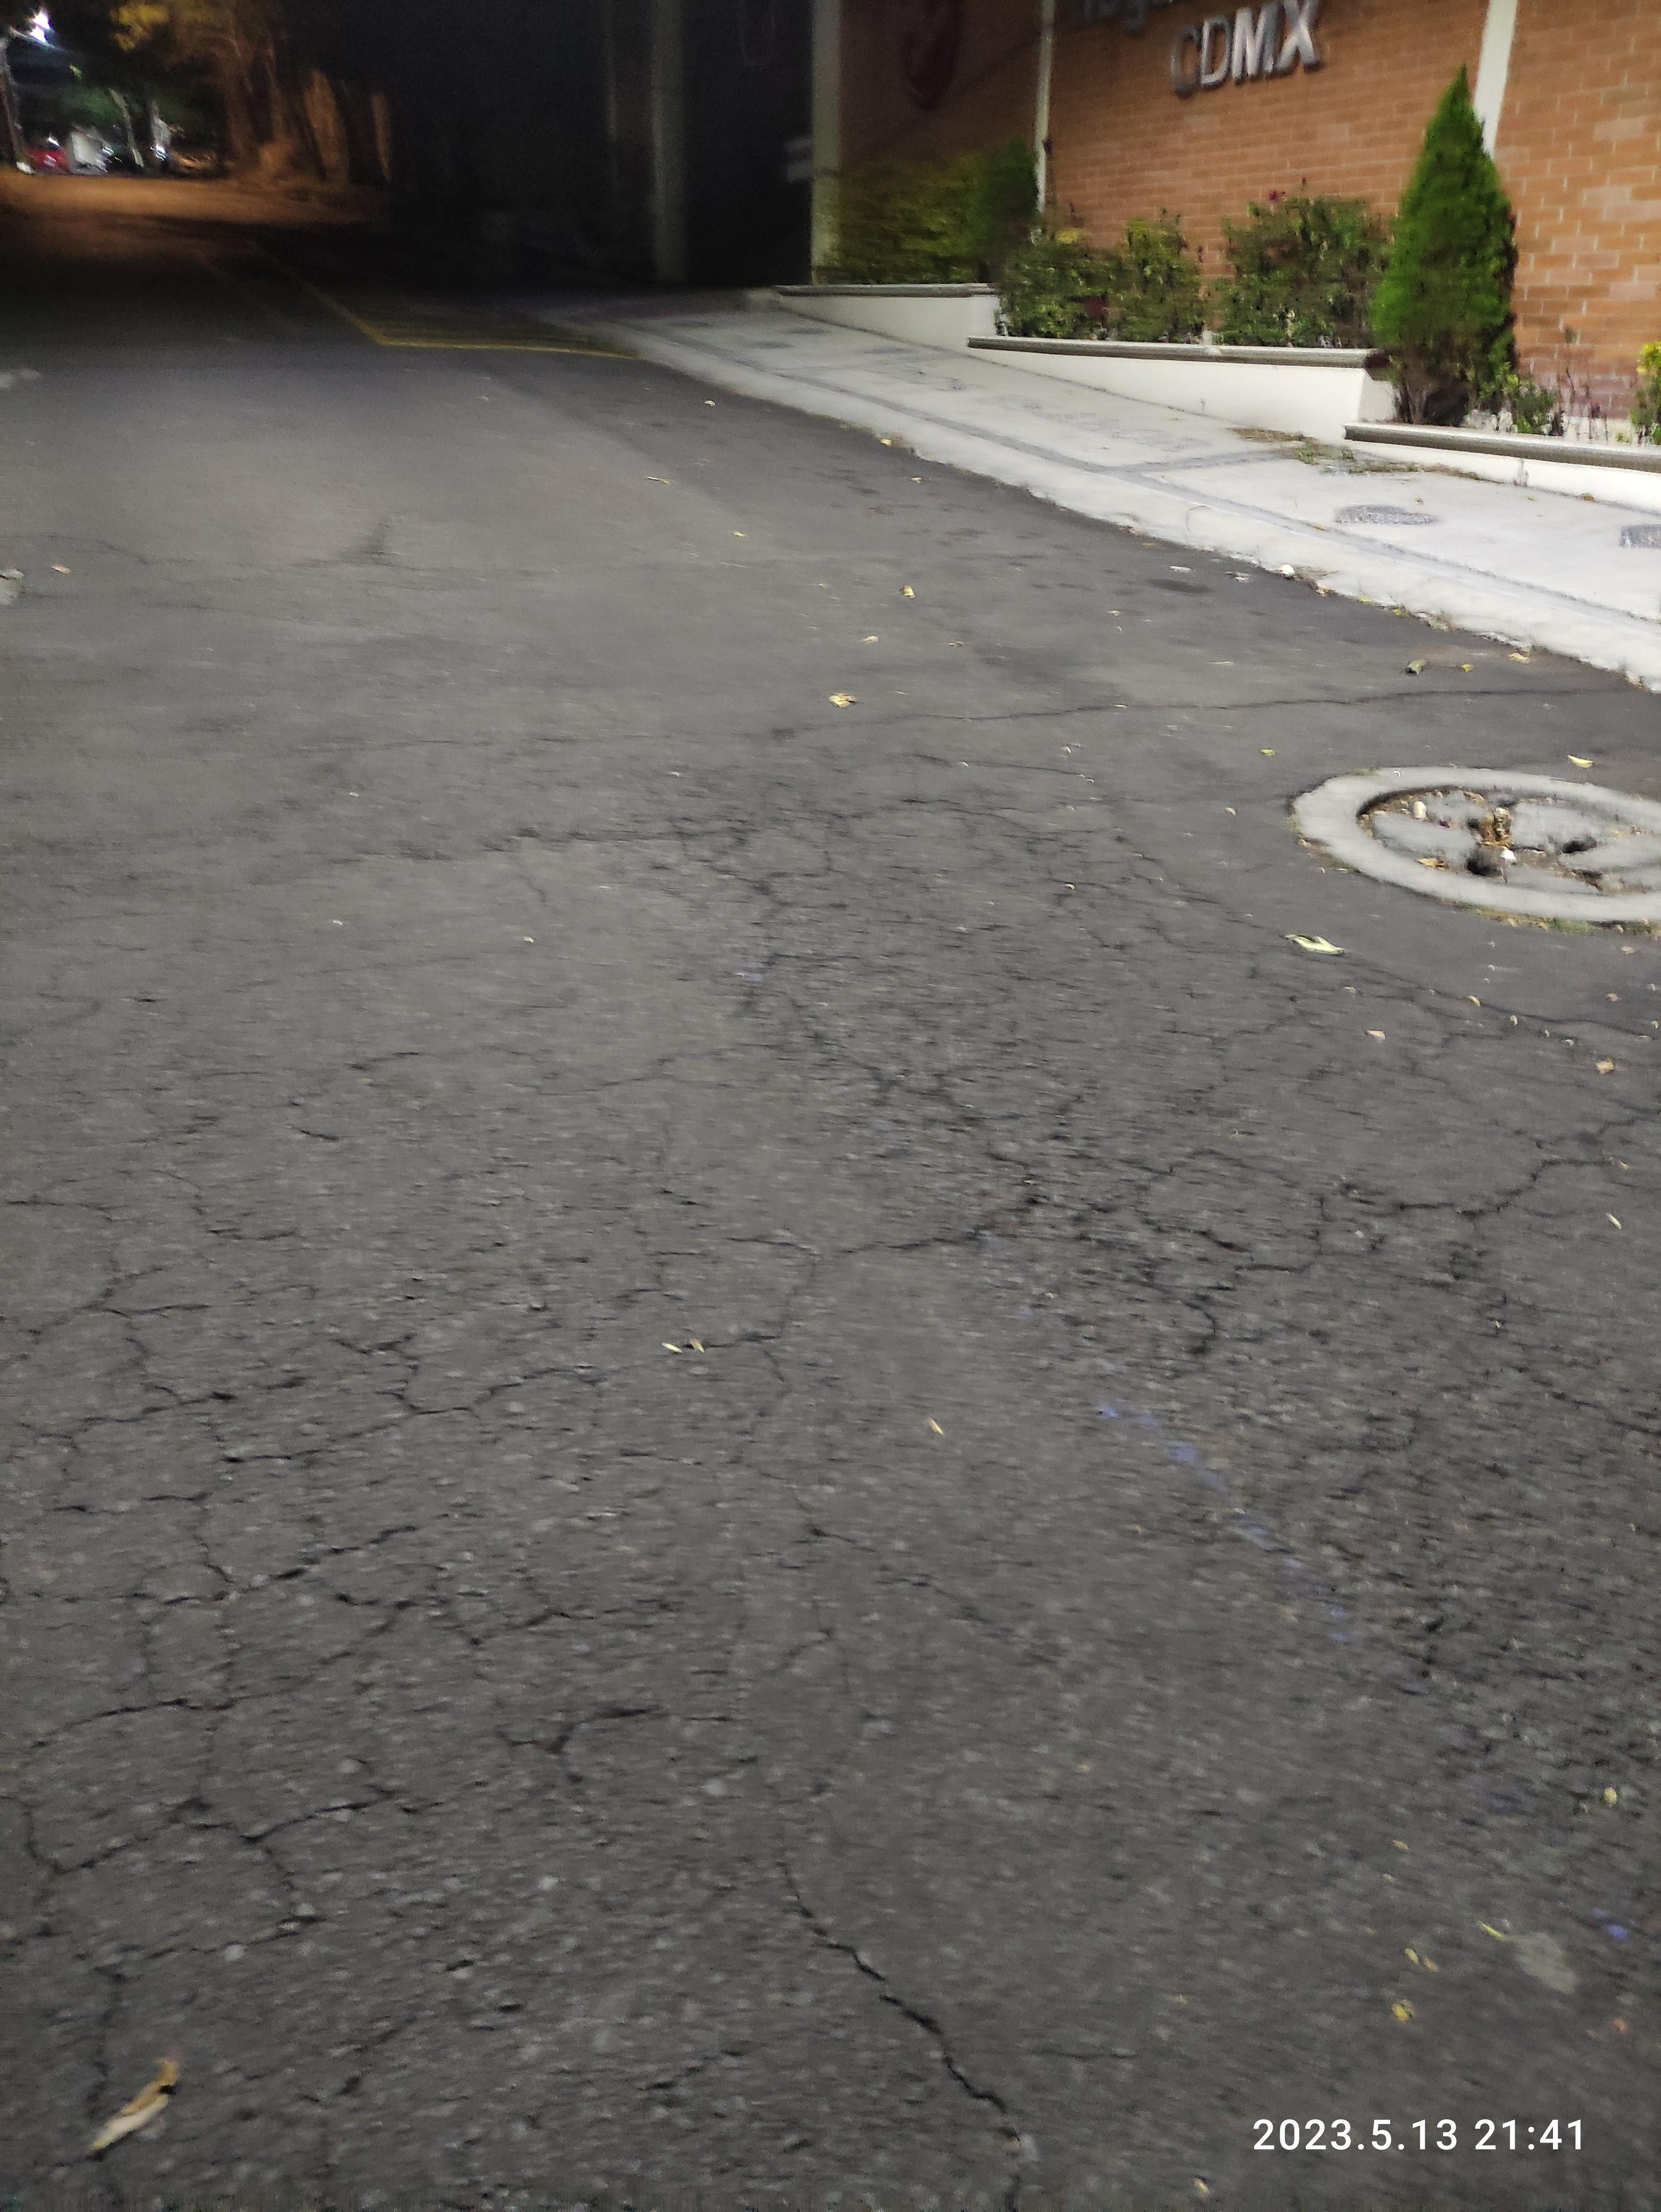alligator-crack: (682, 715, 1661, 1600), (0, 794, 637, 2043)
